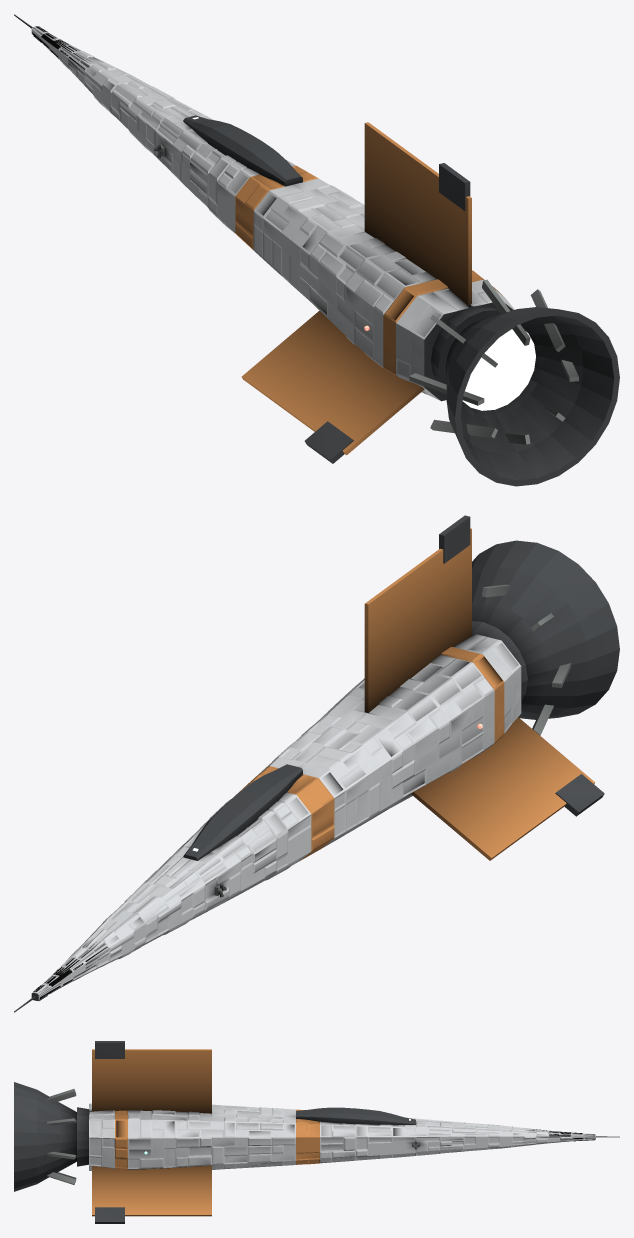
The model's file is racer.glb.
The picture shows the model from 3 angles, top to bottom: view 1: azimuth 30°, elevation 25°; view 2: azimuth 150°, elevation 25°; view 3: azimuth 270°, elevation 25°; orthographic projection. The views are drawn at different scales.
Parts seen in each view (by area): view 1: body; view 2: body; view 3: body.
Part boxes in pixels (x1,y1,x2,y2): body: [14, 14, 619, 486]; body: [14, 515, 619, 1012]; body: [14, 1041, 619, 1223].
Size of the model in its own units: 0.3061 by 0.267 by 1.01.
